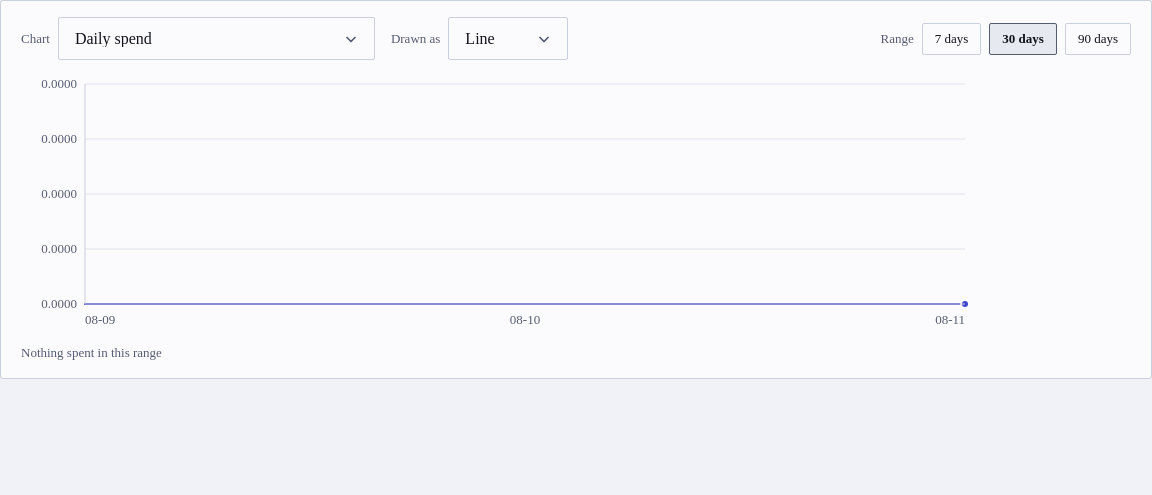
Test: admin cost charts (W11) › the hours view draws a zeroed surface rather than a spinner or a blank
Select "Spend by day and hour" in the dropdown with test id "admin-cost-view": (216, 38) [58,17,375,60]
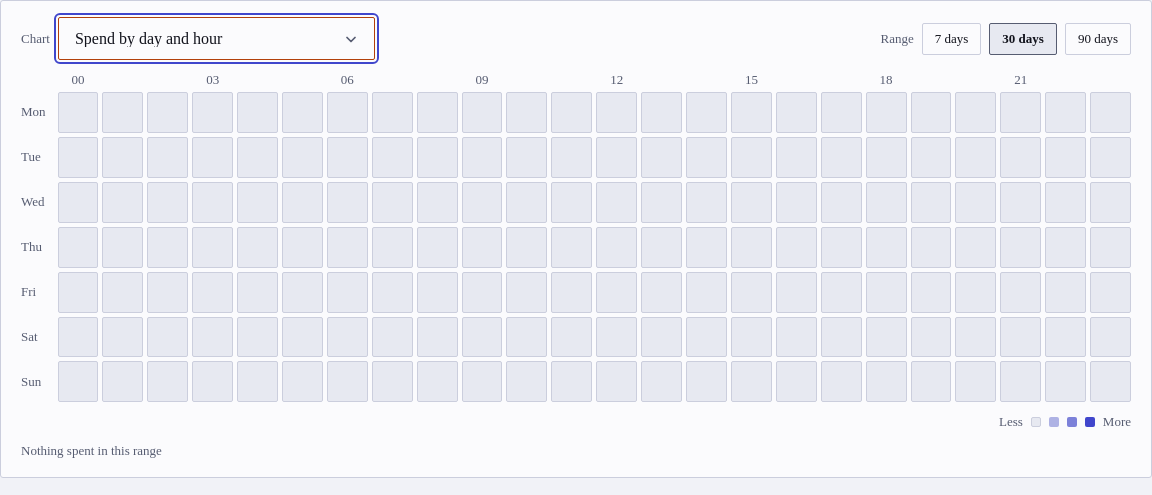
Expected: the text "Nothing spent in this range" is shown once, [21,443,162,458]
Expected: the icon with test id "heat-0-0" is shown, [58,92,98,133]
